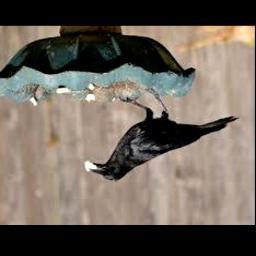Crow: (85, 89, 240, 182)
